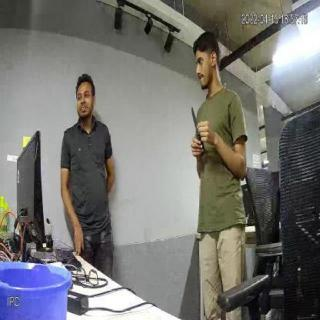knife: (190, 104, 207, 144)
